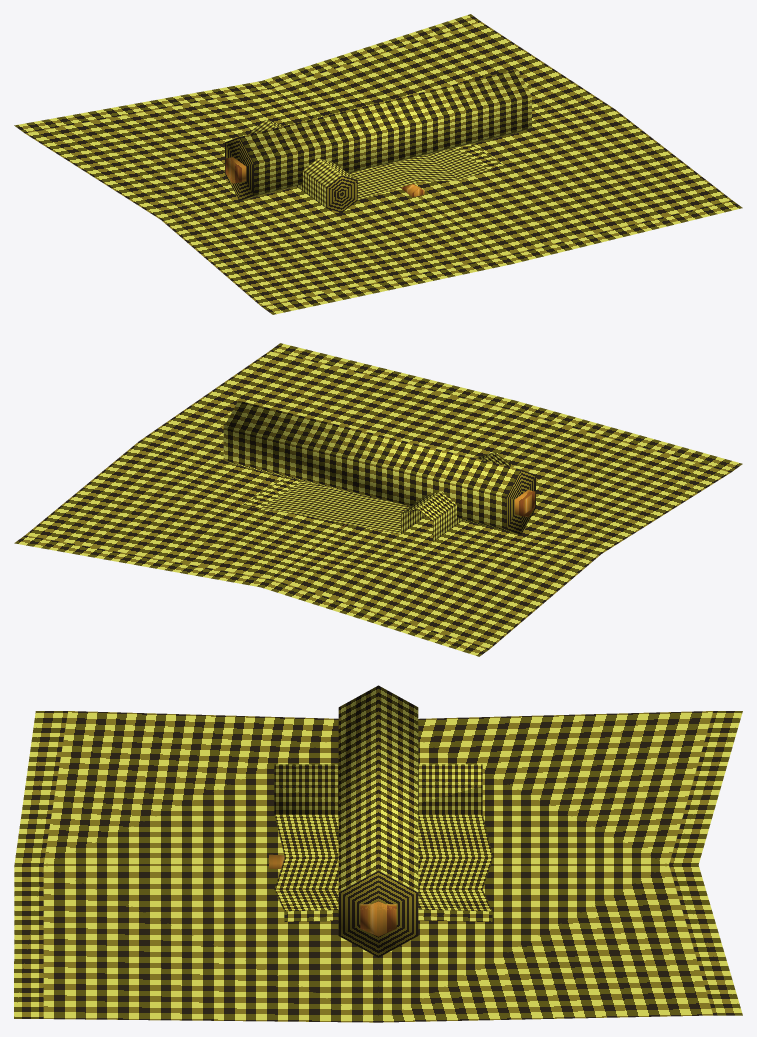
File: 5289ucc_nunoji00.gltf
The picture shows the model from 3 angles, top to bottom: view 1: azimuth 30°, elevation 25°; view 2: azimuth 150°, elevation 25°; view 3: azimuth 270°, elevation 25°; orthographic projection. The views are drawn at different scales.
Visible parts, largest first — view 1: 5289ucc_nunoji00; view 2: 5289ucc_nunoji00; view 3: 5289ucc_nunoji00.
Boxes of the visible parts, x1,y1,x2,y2 form: 5289ucc_nunoji00: [14, 14, 742, 314]; 5289ucc_nunoji00: [14, 343, 742, 656]; 5289ucc_nunoji00: [14, 685, 742, 1022].
Bounding box in the file's own units: 2.02 × 0.2949 × 2.
2 materials, 2 textured.
